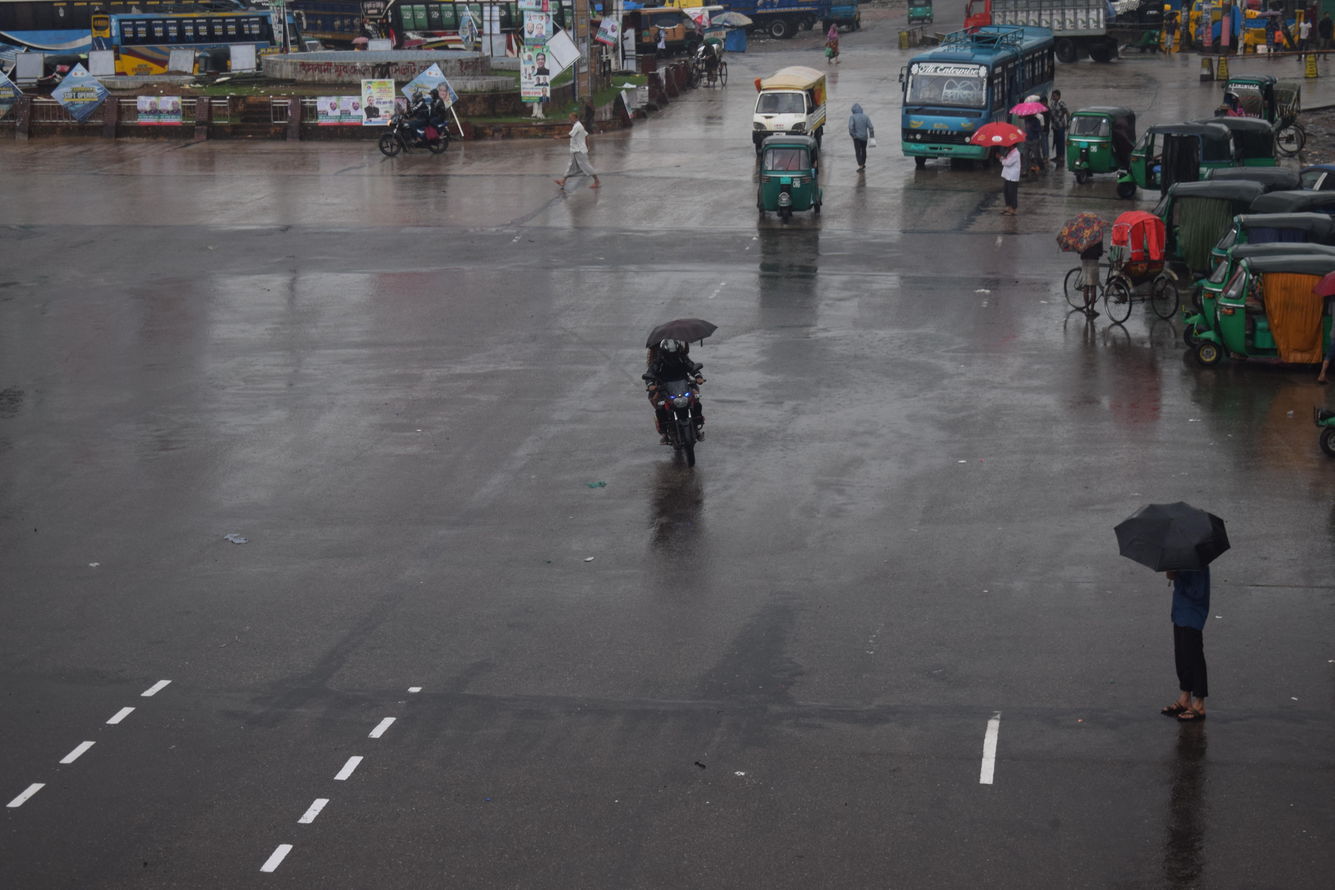Bike: (580, 293, 756, 506), (355, 86, 483, 172)
Bus: (83, 0, 355, 99), (356, 0, 528, 57)
Car: (1033, 182, 1190, 357), (733, 57, 861, 156)
Truck: (950, 0, 1168, 71)
